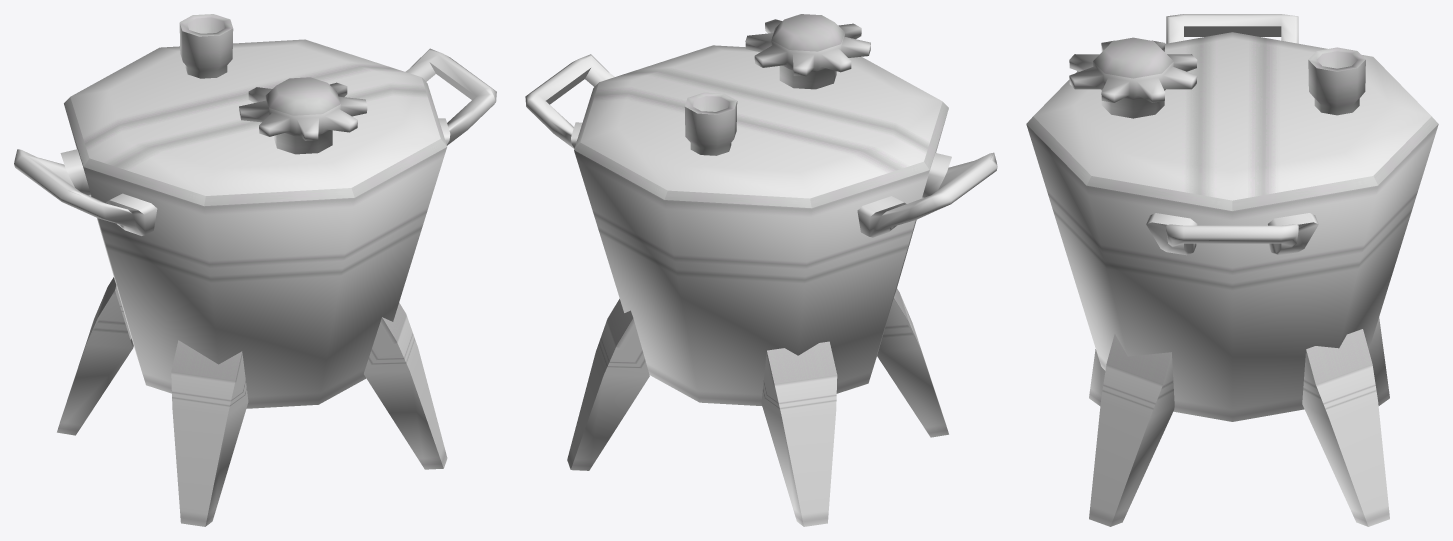
File: CheeseMachine_Hand.fbx
3 views of the same model, side by side, from view 1: azimuth 30°, elevation 25°; view 2: azimuth 150°, elevation 25°; view 3: azimuth 270°, elevation 25° (orthographic). The views are drawn at different scales.
Visible parts, largest first — view 1: MilkBucket (1), Lid (1), Stand (1), Spinner; view 2: MilkBucket (1), Lid (1), Stand (1), Spinner; view 3: MilkBucket (1), Lid (1), Stand (1), Spinner.
Part boxes in pixels (left/top/right/bottom): MilkBucket (1): left=14, top=48, right=496, bottom=408; Lid (1): left=64, top=14, right=447, bottom=206; Stand (1): left=57, top=277, right=447, bottom=526; Spinner: left=239, top=77, right=367, bottom=154; MilkBucket (1): left=525, top=54, right=997, bottom=405; Lid (1): left=574, top=45, right=948, bottom=208; Stand (1): left=567, top=288, right=948, bottom=526; Spinner: left=745, top=14, right=870, bottom=89; MilkBucket (1): left=1026, top=14, right=1438, bottom=421; Lid (1): left=1026, top=32, right=1438, bottom=210; Stand (1): left=1089, top=317, right=1389, bottom=526; Spinner: left=1069, top=37, right=1197, bottom=118.
Bounding box in the file's own units: 0.9885 × 0.8582 × 0.7797.
Materials: 1 (1 with a texture image).
